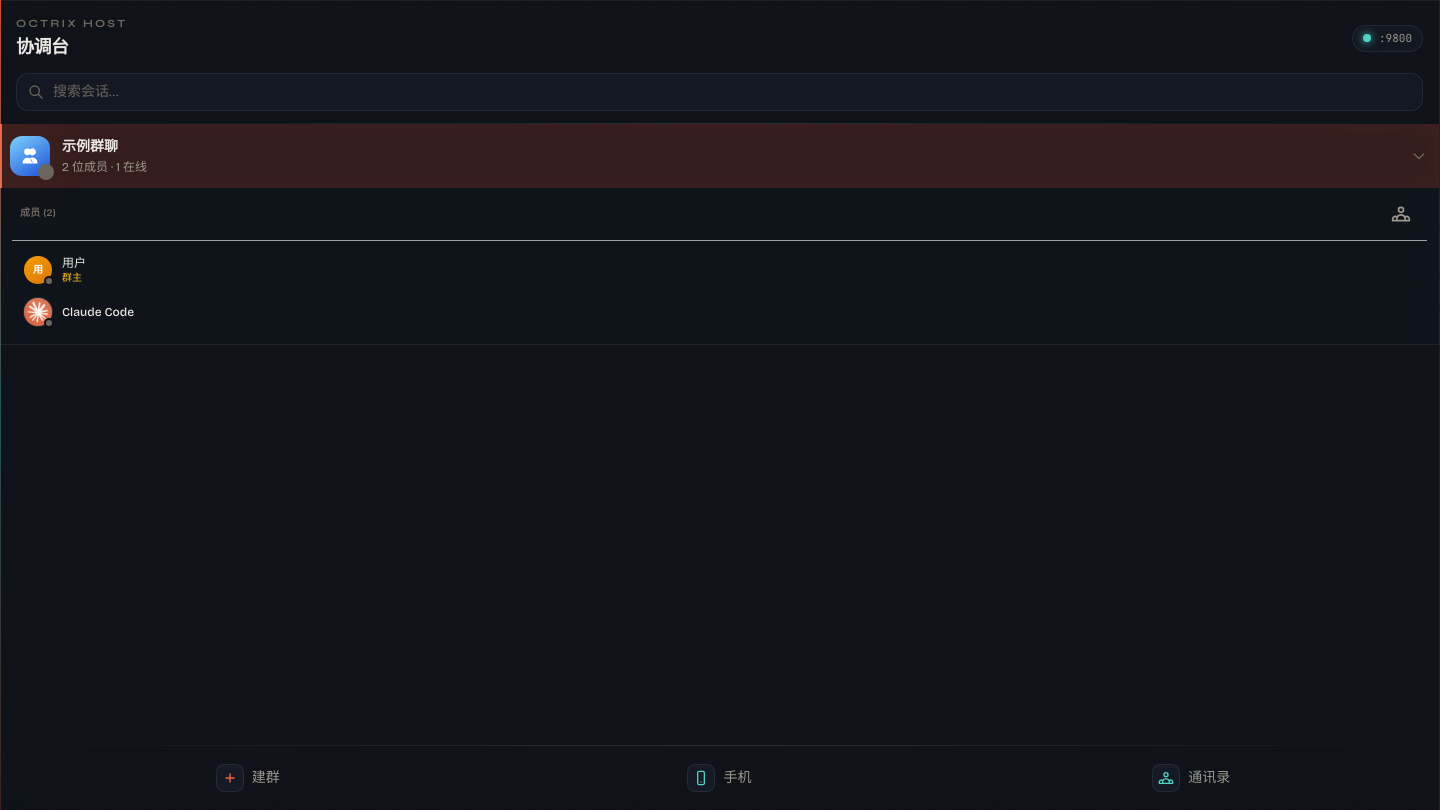
Test: Sidebar conversation row members expand › collapses member panel when chevron is clicked again
The width and height of the screenshot is (1440, 810).
Check: the text "成员 (2)" is shown, box [20,206,56,221]
Click the button named "收起群成员": {"x": 1419, "y": 156} [1407,144,1431,168]
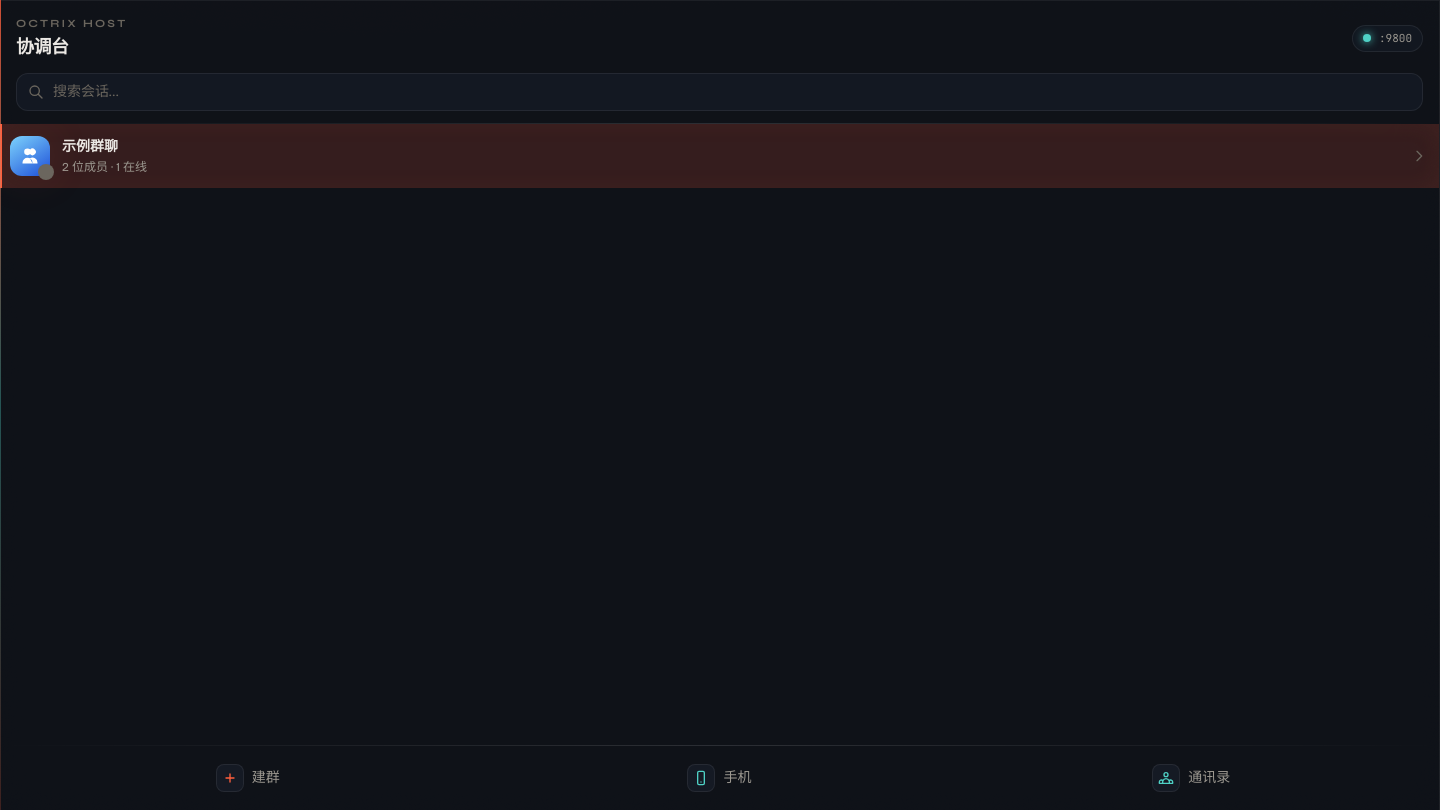
Check: the text "成员 (2)" is gone
